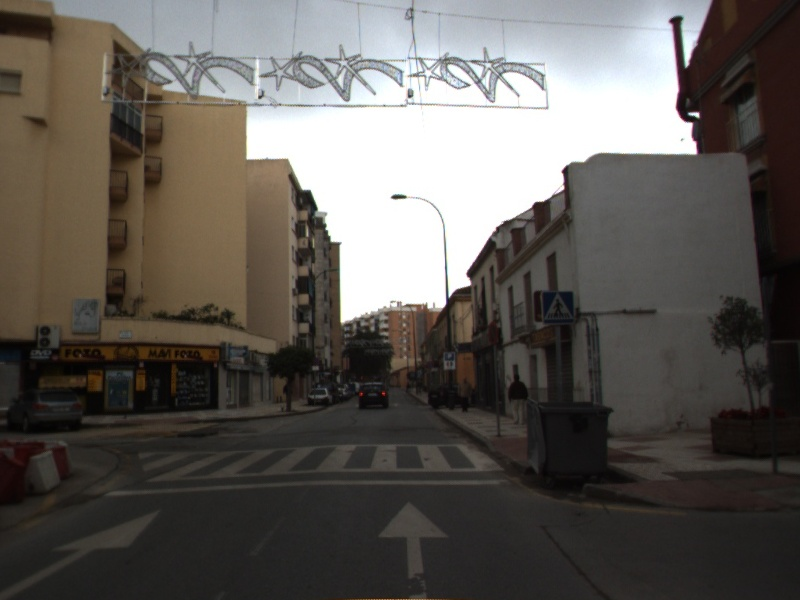STRAIGHT: (1, 508, 163, 599), (376, 499, 451, 600)
